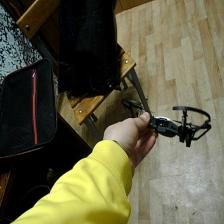drone: (118, 90, 216, 154)
